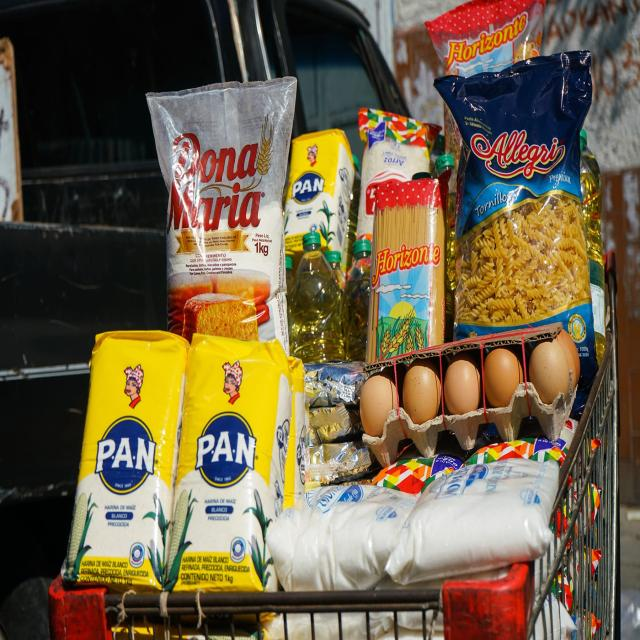Arina_pan: (178, 333, 288, 597), (80, 328, 184, 590), (283, 130, 356, 291)
